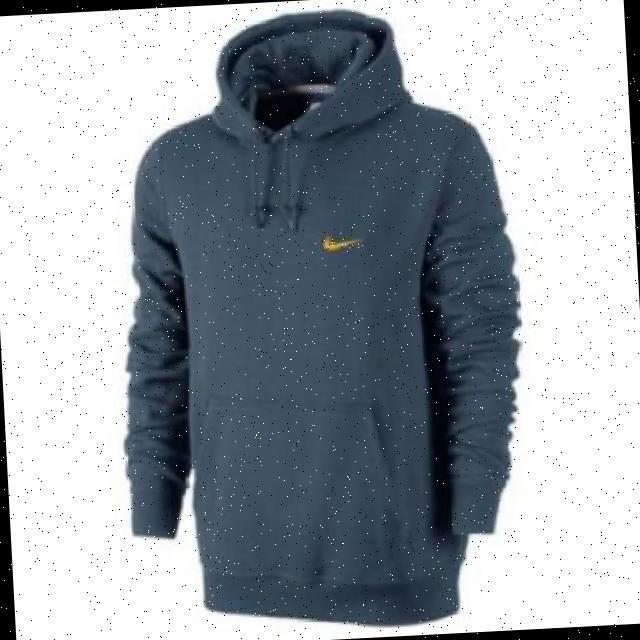Nike: (320, 231, 364, 250)
